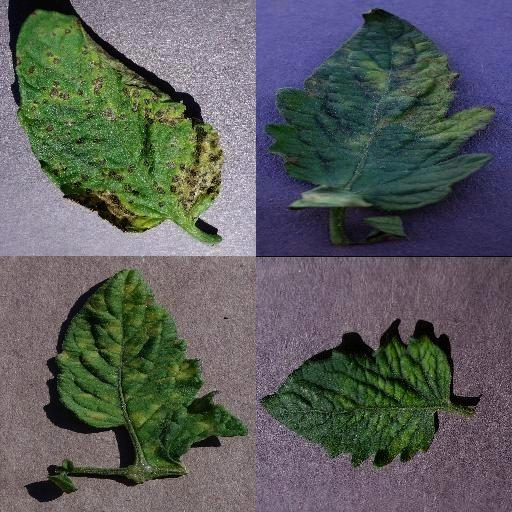Leaf Mold: (264, 6, 494, 210), (55, 267, 250, 467)
Mosaic Virus: (257, 333, 453, 471)
Septoria: (15, 7, 223, 233)
